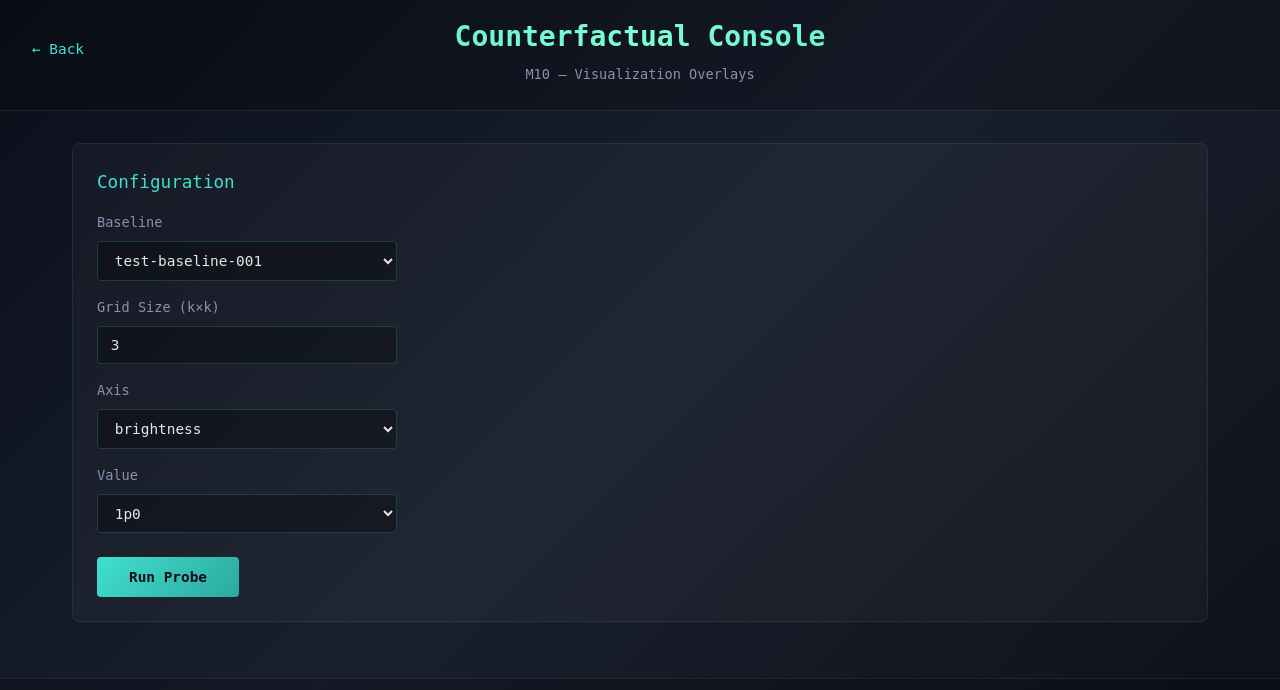
M10 Overlay Visualization › Visualization Container › renders overlay visualization container
Click the button "Run Probe". click: (168,577)
box: [97, 557, 239, 597]
(page scrolled)
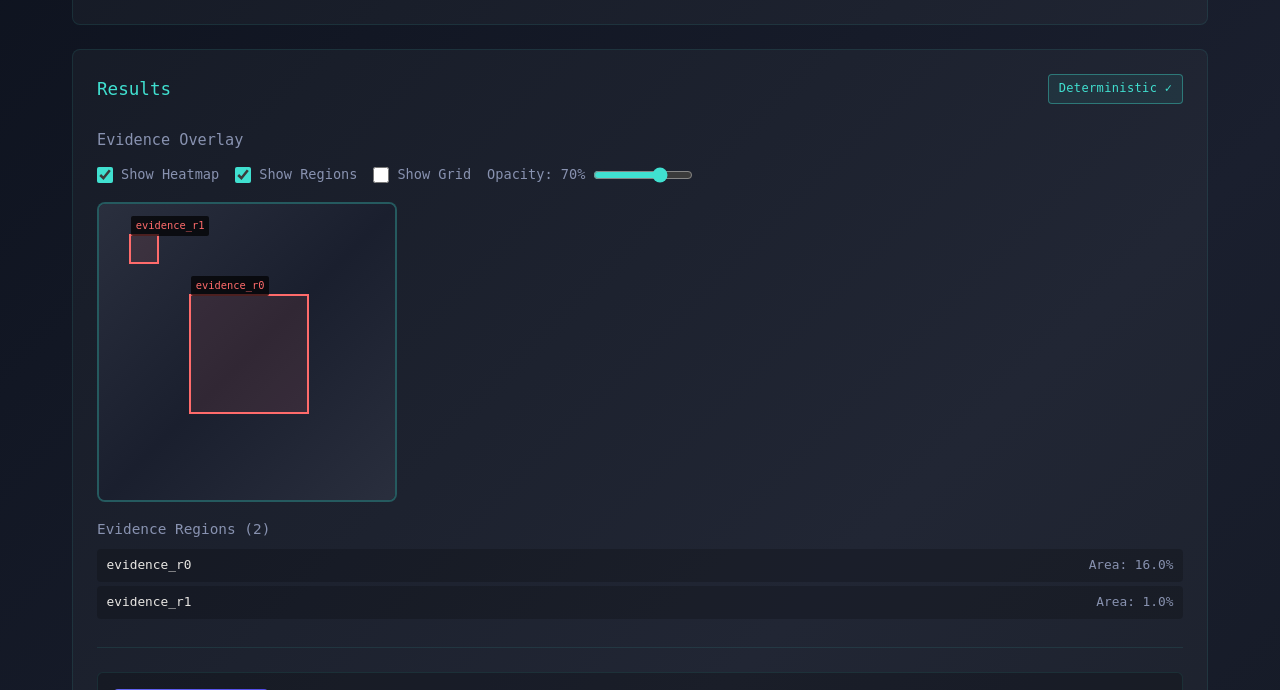
Result: the element with test id "overlay-visualization" is shown at [97, 202, 397, 502]
